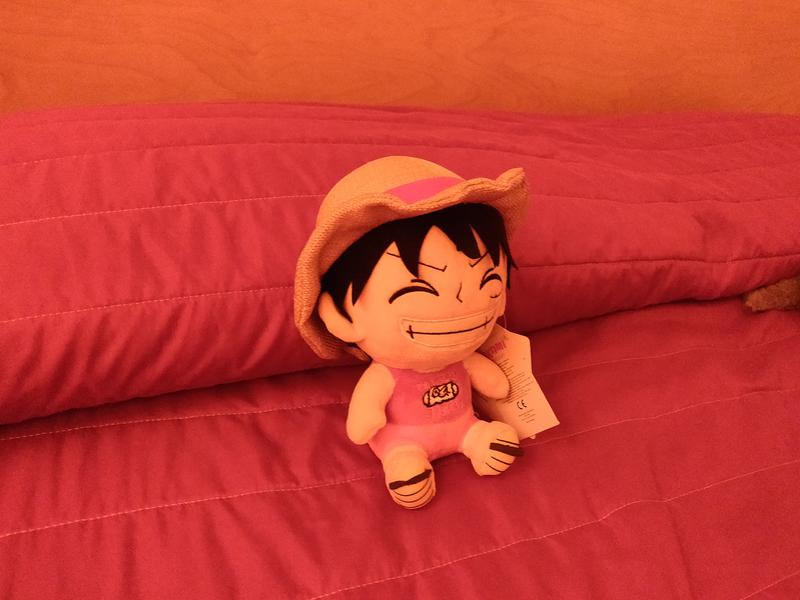rufy: (288, 150, 572, 508)
